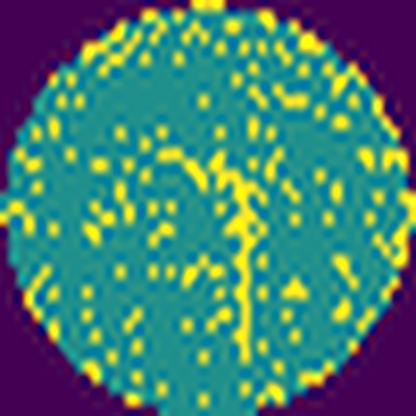Scratch: (206, 150, 274, 371)
